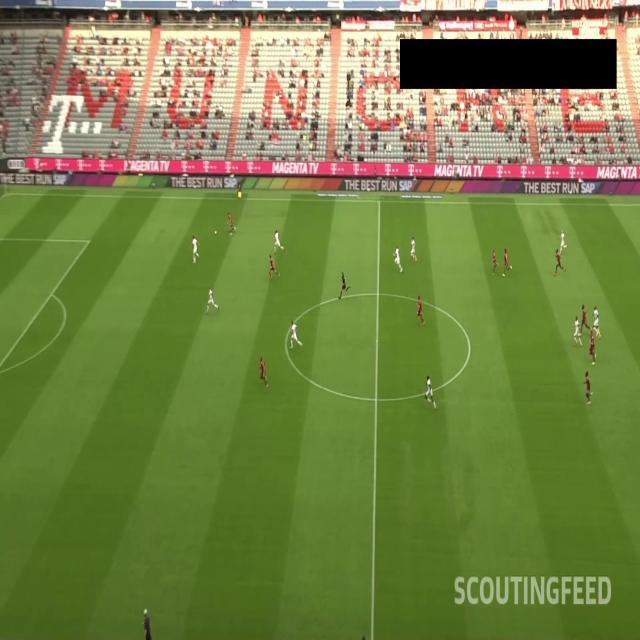ball: (234, 175, 246, 201), (213, 227, 218, 239)
player: (422, 371, 438, 411), (578, 299, 593, 339), (581, 368, 595, 409), (204, 286, 220, 318), (288, 319, 303, 351), (502, 243, 514, 280), (272, 225, 286, 255), (258, 354, 270, 388), (572, 311, 583, 348), (267, 252, 281, 281), (553, 247, 566, 277), (589, 328, 598, 368), (392, 244, 404, 273), (490, 247, 501, 278), (225, 210, 236, 240), (593, 305, 602, 341), (190, 234, 200, 266), (415, 294, 425, 326), (559, 226, 569, 258), (408, 235, 419, 262)
referee: (337, 268, 352, 302)
